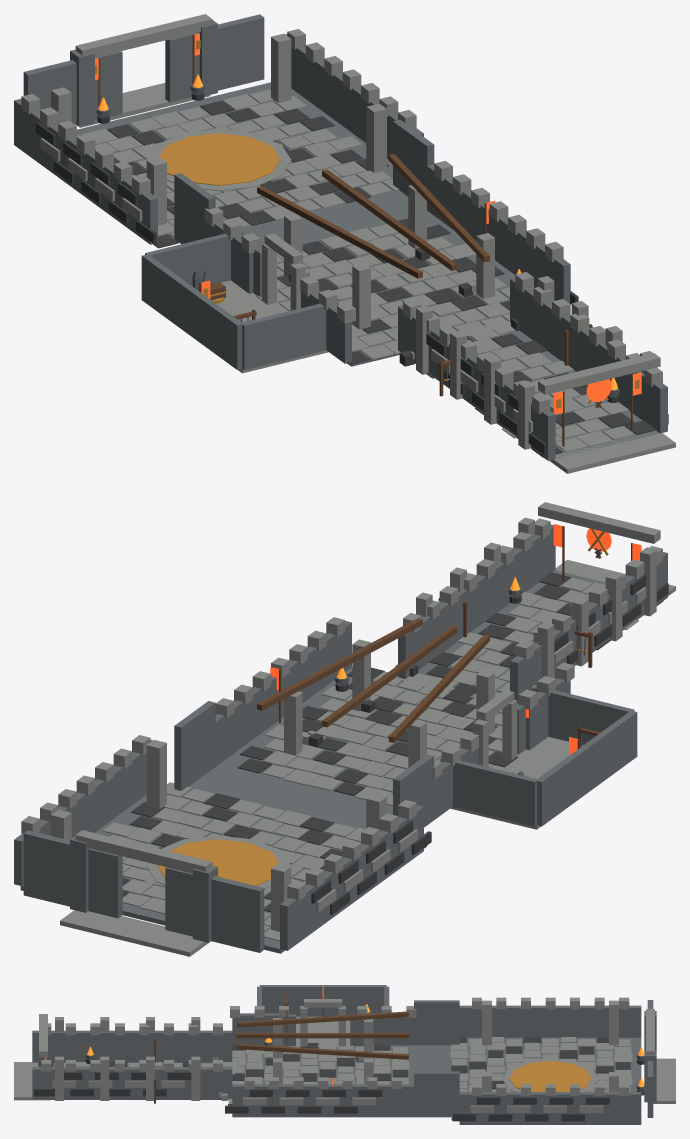
Rendered from soldiers_passage.glb.
The picture shows the model from 3 angles, top to bottom: view 1: azimuth 30°, elevation 25°; view 2: azimuth 150°, elevation 25°; view 3: azimuth 270°, elevation 25°; orthographic projection. The views are drawn at different scales.
Parts seen in each view (by area): view 1: Soldiers Passage right corridor wall, Loot Room outer wall, Elite Arena rear side wall R, Muster Hall right wall, Elite Arena dais inlay, Loot Room front wall, Elite Arena left wall, Elite Arena floor, Elite Arena right wall, Elite Arena rear side wall L, Soldiers Passage left corridor wall, Elite Arena approach floor (+30 smaller); view 2: Soldiers Passage right corridor wall, Elite Arena rear side wall L, Elite Arena rear side wall R, Loot Room outer wall, Muster Hall right wall, Elite Arena approach floor, Loot Room rear wall, Elite Arena left wall, Elite Arena right wall, Muster Hall floor, Floating rubble launch ledge, Elite approach wall R (+29 smaller); view 3: Soldiers Passage left corridor wall, Elite Arena left wall, Elite Arena right wall, Muster Hall right wall, Soldiers Passage right corridor wall, Loot Room outer wall, Elite approach wall R, Elite approach wall L, Elite Arena dais inlay, Elite Arena floor, Muster Hall floor, Elite Arena approach floor (+27 smaller).
Part boxes in pixels (left/top/right/bottom): Soldiers Passage right corridor wall: left=510, top=278, right=667, bottom=433; Loot Room outer wall: left=141, top=254, right=242, bottom=369; Elite Arena rear side wall R: left=165, top=14, right=264, bottom=102; Muster Hall right wall: left=427, top=164, right=570, bottom=303; Elite Arena dais inlay: left=159, top=133, right=280, bottom=185; Loot Room front wall: left=241, top=302, right=338, bottom=370; Elite Arena left wall: left=14, top=99, right=157, bottom=244; Elite Arena floor: left=77, top=82, right=392, bottom=246; Elite Arena right wall: left=285, top=34, right=423, bottom=159; Elite Arena rear side wall L: left=23, top=51, right=122, bottom=125; Soldiers Passage left corridor wall: left=398, top=305, right=555, bottom=460; Elite Arena approach floor: left=242, top=187, right=408, bottom=248; Soldiers Passage right corridor wall: left=398, top=524, right=555, bottom=678; Elite Arena rear side wall L: left=165, top=867, right=264, bottom=952; Elite Arena rear side wall R: left=23, top=830, right=122, bottom=918; Loot Room outer wall: left=537, top=711, right=637, bottom=826; Muster Hall right wall: left=215, top=621, right=351, bottom=766; Elite Arena approach floor: left=186, top=767, right=392, bottom=832; Loot Room rear wall: left=440, top=758, right=537, bottom=826; Elite Arena left wall: left=280, top=805, right=423, bottom=950; Elite Arena right wall: left=14, top=740, right=152, bottom=885; Muster Hall floor: left=216, top=667, right=502, bottom=809; Floating rubble launch ledge: left=60, top=910, right=208, bottom=956; Elite approach wall R: left=174, top=701, right=215, bottom=790; Soldiers Passage left corridor wall: left=32, top=1030, right=232, bottom=1062; Elite Arena left wall: left=459, top=1005, right=641, bottom=1037; Elite Arena right wall: left=459, top=1092, right=641, bottom=1124; Muster Hall right wall: left=232, top=1084, right=413, bottom=1116; Soldiers Passage right corridor wall: left=32, top=1067, right=232, bottom=1099; Loot Room outer wall: left=259, top=985, right=386, bottom=1016; Elite approach wall R: left=414, top=1071, right=459, bottom=1116; Elite approach wall L: left=414, top=1000, right=459, bottom=1045; Elite Arena dais inlay: left=509, top=1061, right=591, bottom=1091; Elite Arena floor: left=459, top=1037, right=641, bottom=1124; Muster Hall floor: left=232, top=1045, right=413, bottom=1117; Elite Arena approach floor: left=414, top=1045, right=459, bottom=1117.
Bounding box in the file's own units: 28.68 × 6.36 × 72.8.
